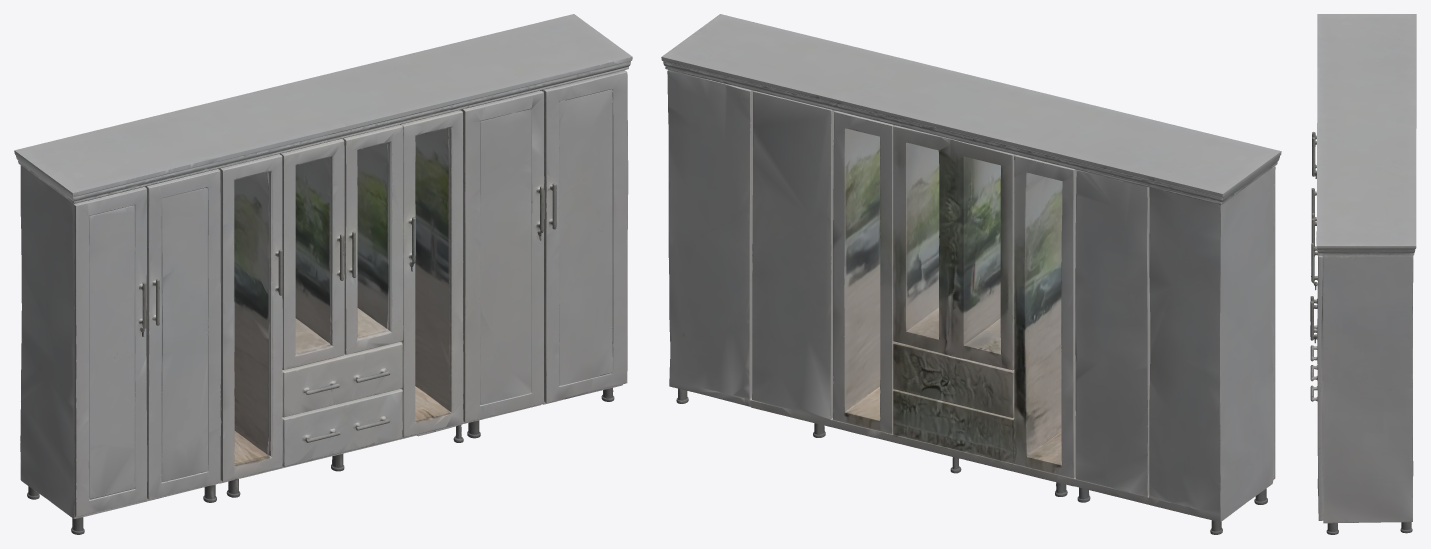
Rendered from six-door-wardrobe.glb.
The picture shows the model from 3 angles, left to right: view 1: azimuth 30°, elevation 25°; view 2: azimuth 150°, elevation 25°; view 3: azimuth 270°, elevation 25°; orthographic projection. The views are drawn at different scales.
Visible parts, largest first — view 1: model; view 2: model; view 3: model.
Boxes of the visible parts, x1,y1,x2,y2 form: model: (14, 14, 632, 534); model: (661, 14, 1281, 534); model: (1310, 14, 1416, 534).
Bounding box in the file's own units: 1.9 × 1.13 × 0.3672.
1 material, 1 textured.
